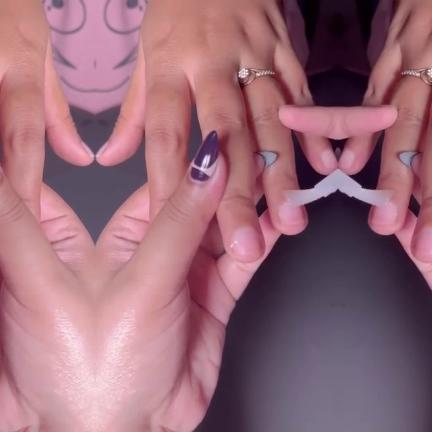Nail: (188, 129, 218, 185), (231, 227, 261, 255), (277, 202, 304, 225), (370, 202, 397, 225), (413, 227, 432, 255), (321, 149, 336, 169), (338, 149, 353, 169), (94, 143, 108, 157), (80, 143, 94, 157)
